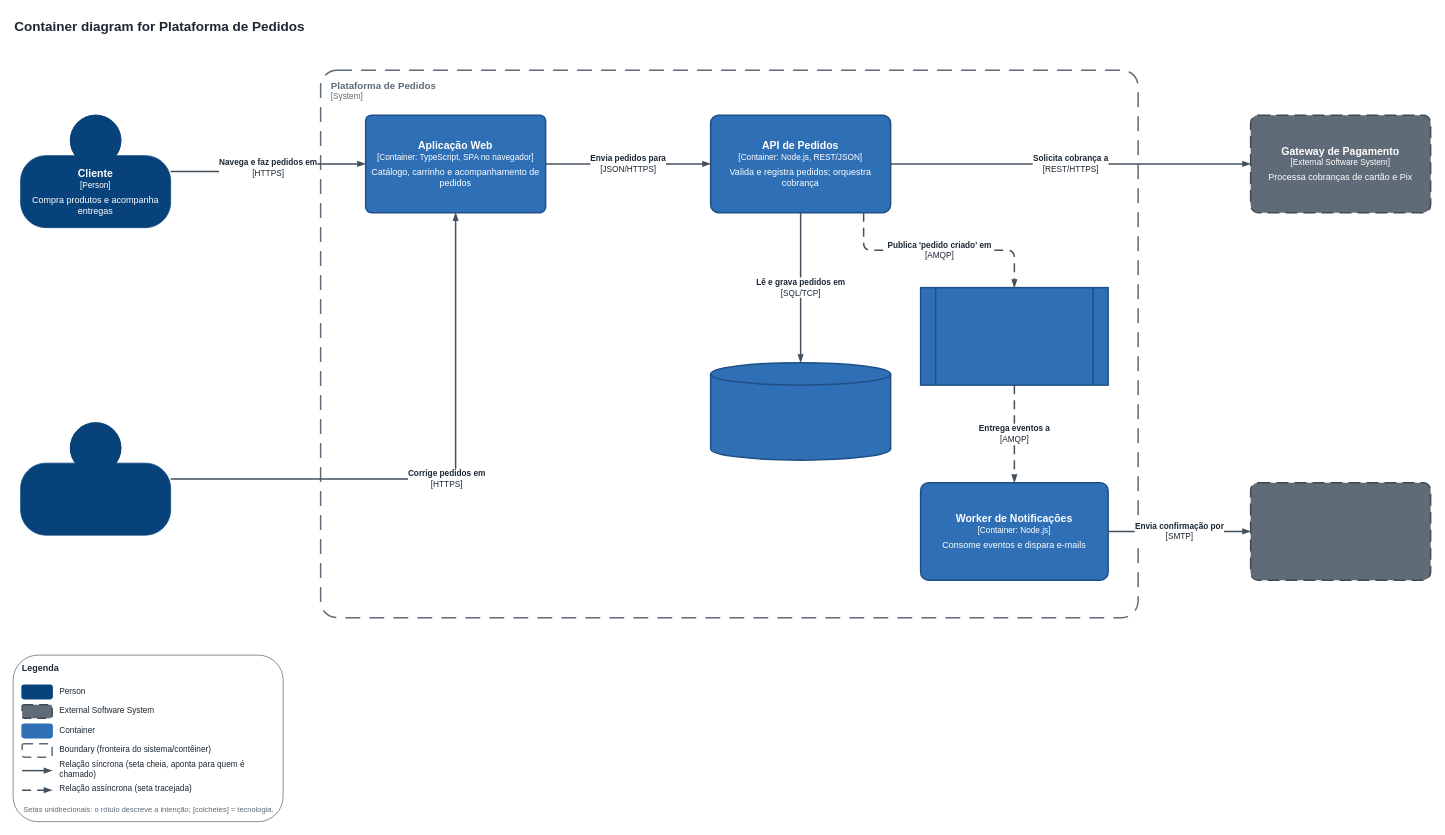
This 1445x835 diagram has some shape labels left out. Each missing label, with the centre of its shape:
Atendente [Person] Consulta e corrige pedidos: (x=95, y=478)
Banco de Pedidos [Container: PostgreSQL] Pedidos, itens e histórico de status: (x=800, y=411)
Fila de Eventos [Container: Mensageria AMQP] Eventos de pedido criado e pago: (x=1014, y=336)
Serviço de E-mail [External Software System] Entrega e-mails transacionais: (x=1340, y=531)
